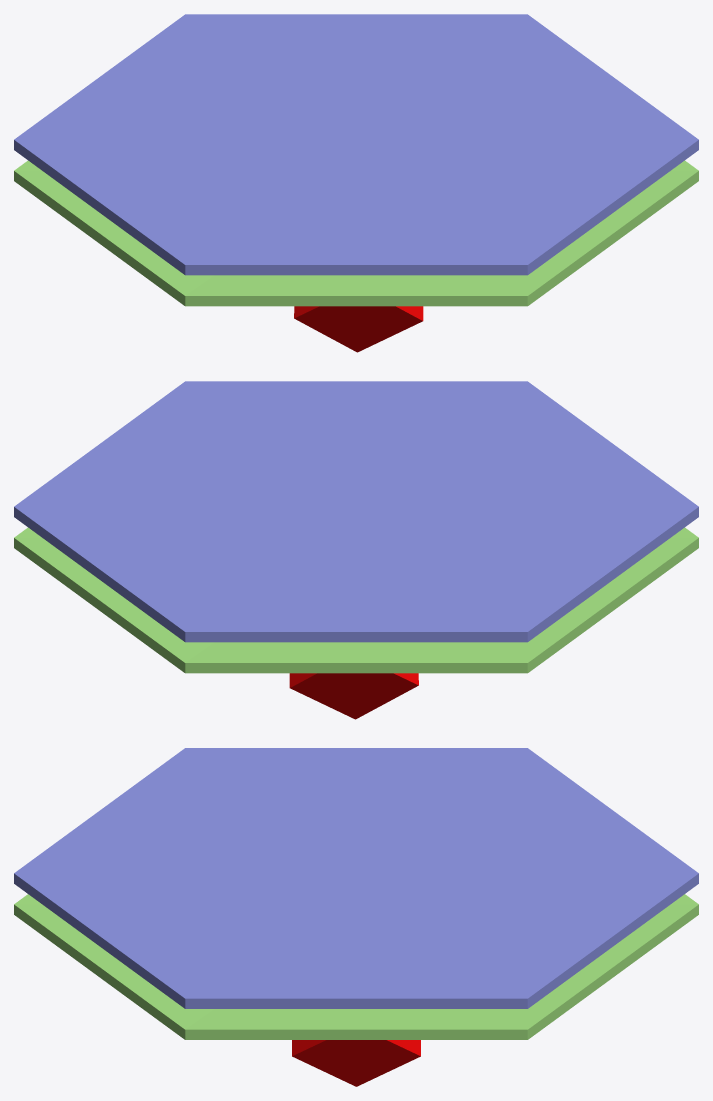
The model's file is higherTower.glb.
3 views of the same model, one above another, from view 1: azimuth 30°, elevation 25°; view 2: azimuth 150°, elevation 25°; view 3: azimuth 270°, elevation 25° (orthographic).
Parts seen in each view (by area): view 1: tower, under, base; view 2: tower, under, base; view 3: tower, under, base.
Boxes of the visible parts, <box> form: tower: <box>14,14,698,275</box>; under: <box>14,160,698,306</box>; base: <box>294,306,423,352</box>; tower: <box>14,381,698,642</box>; under: <box>14,527,698,673</box>; base: <box>289,673,418,719</box>; tower: <box>14,748,698,1008</box>; under: <box>14,894,698,1039</box>; base: <box>292,1040,420,1086</box>.
Bounding box in the file's own units: 2.6 × 1.03 × 3.
